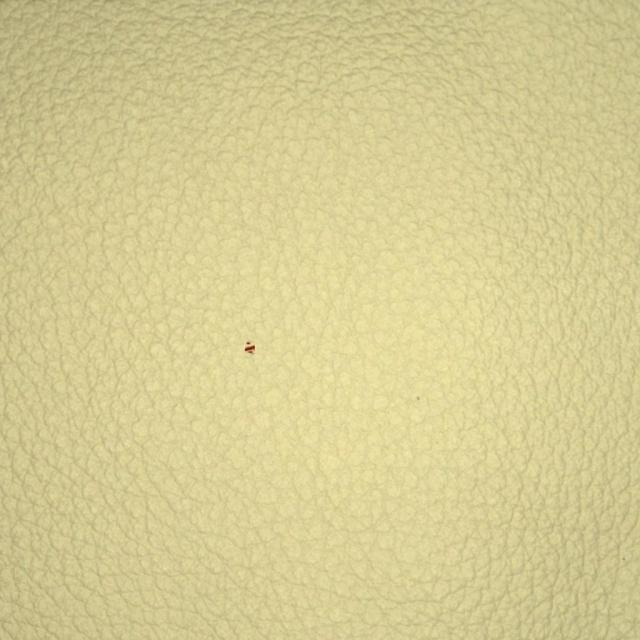Hole: (156, 269, 346, 429)
